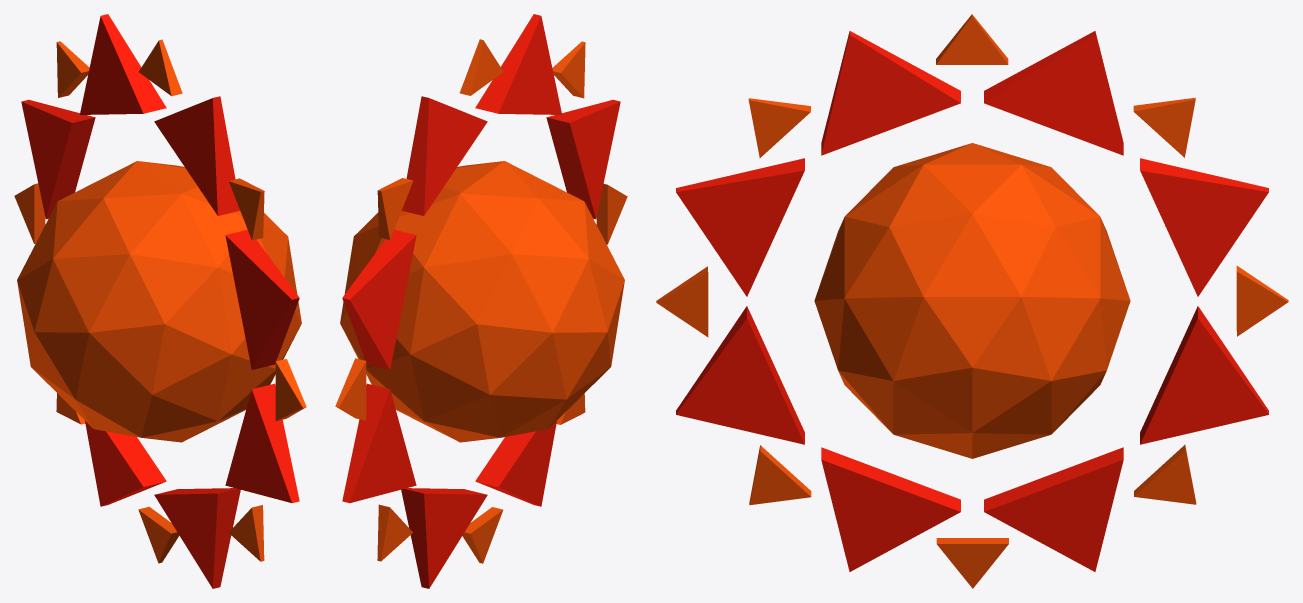
The model's file is sun_02.obj.
3 renders of one model, left to right at view 1: azimuth 30°, elevation 25°; view 2: azimuth 150°, elevation 25°; view 3: azimuth 270°, elevation 25°, orthographic. The views are drawn at different scales.
Parts seen in each view (by area): view 1: sun_01_Sphere; view 2: sun_01_Sphere; view 3: sun_01_Sphere.
Boxes of the visible parts, x1,y1,x2,y2 form: sun_01_Sphere: [14, 14, 306, 588]; sun_01_Sphere: [335, 14, 627, 588]; sun_01_Sphere: [656, 14, 1288, 588].
Size of the model in its own units: 106 by 212 by 212.
